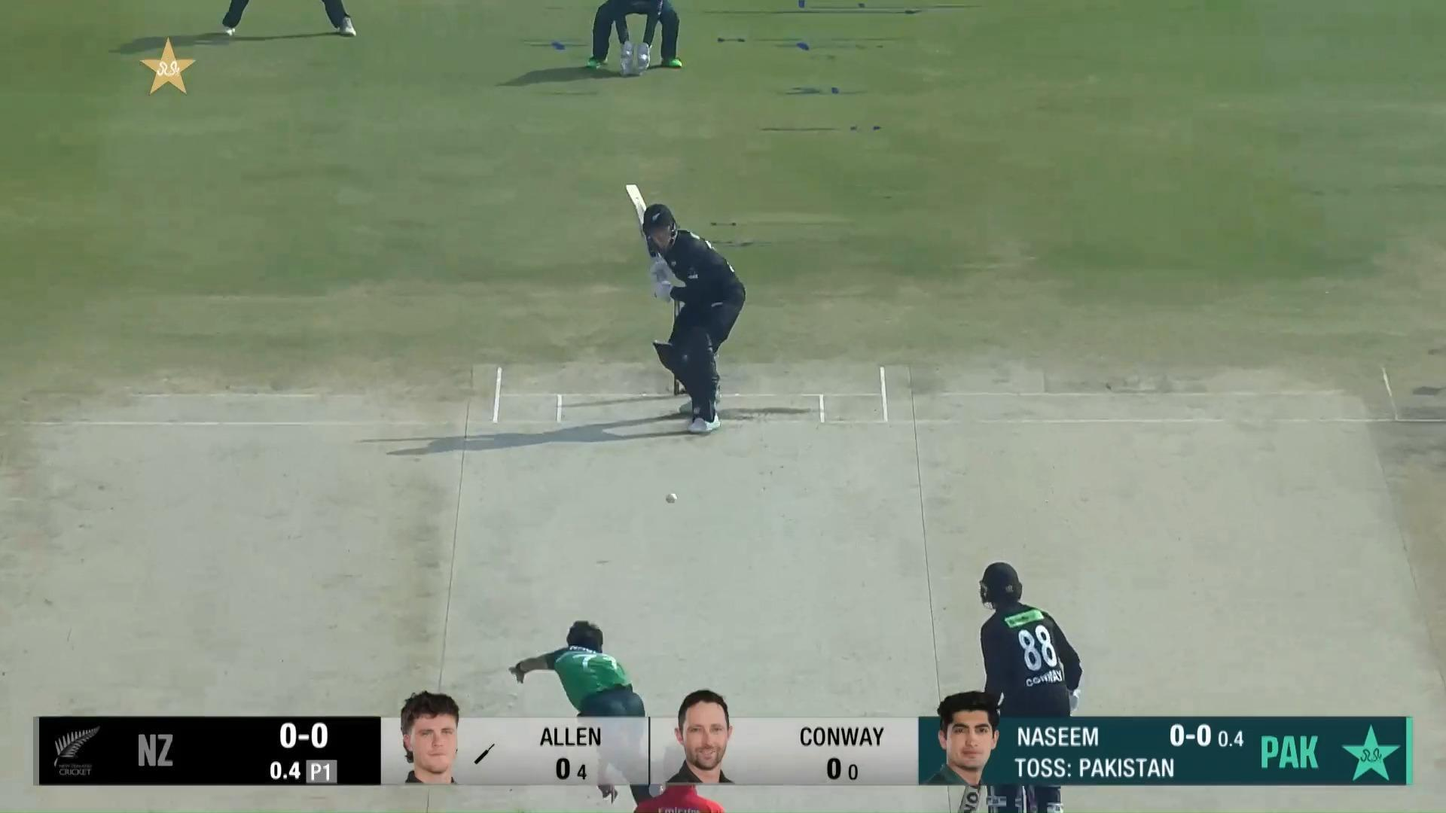BM 1: (622, 181, 747, 436)
BO: (509, 620, 646, 805)
